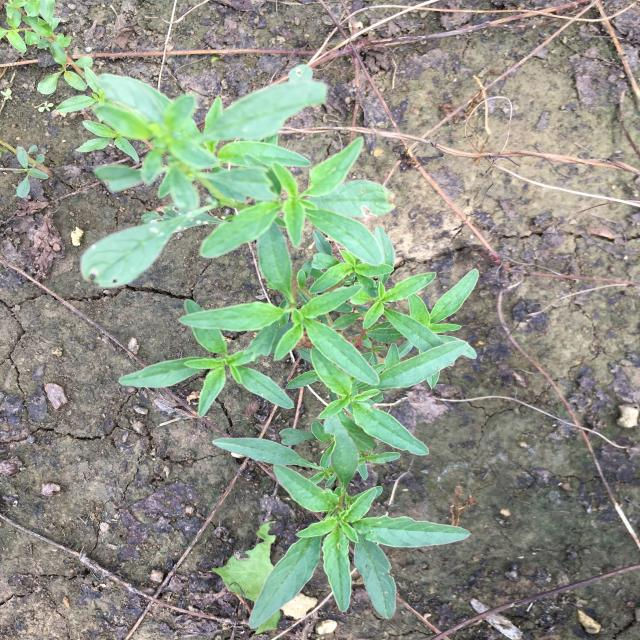Waterhemp: (55, 64, 480, 629), (12, 145, 49, 198)
